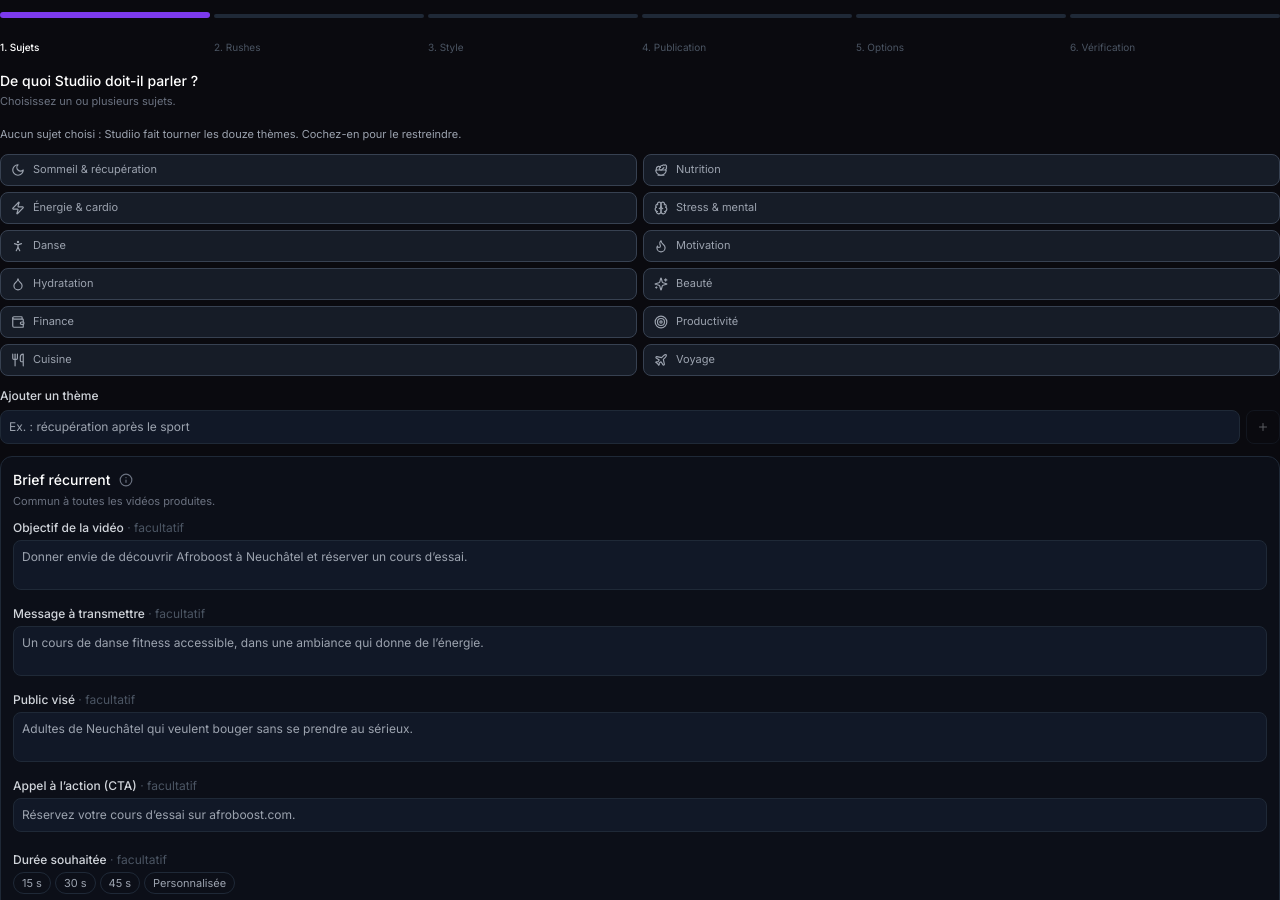
Autopilote — guidage par étape › ⚠️ étape Rushes sans rush : « Ajouter des rushes » est LE bouton principal, « Continuer » attend
This screenshot has width=1280, height=900.
Expected: the text "De quoi Studiio doit-il parler ?" is shown, x1=0 y1=72 x2=198 y2=89
Step 1. Click the button named "Rushes" → click(319, 16), box x1=214 y1=14 x2=424 y2=18
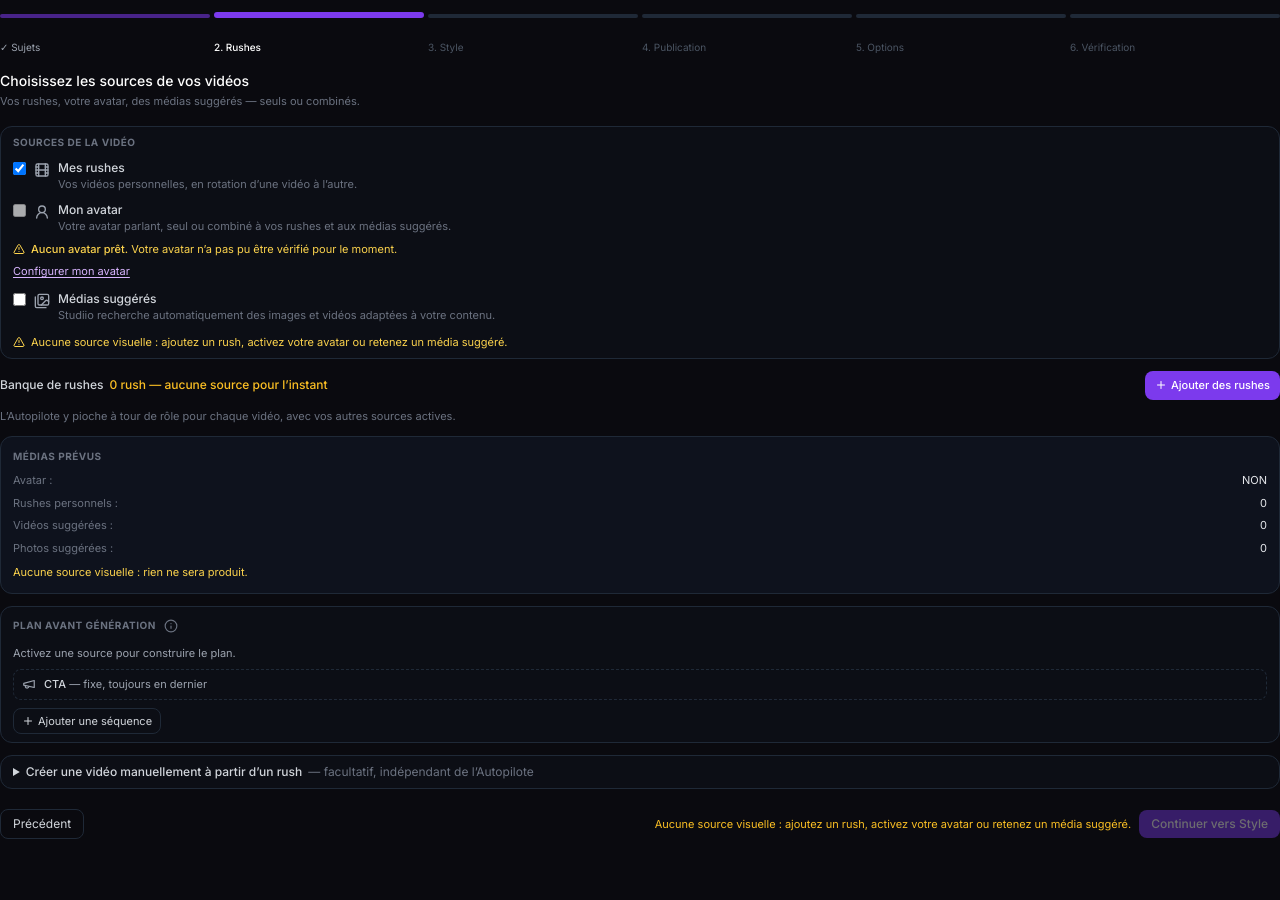
Expected: the button "Ajouter des rushes" is shown, x1=1145 y1=371 x2=1279 y2=400
Expected: the element showing "Banque de rushes0 rush — aucune source pour l’instant" is shown, x1=0 y1=377 x2=328 y2=393
Expected: the button "Continuer vers Style" is disabled, x1=1139 y1=810 x2=1279 y2=838
